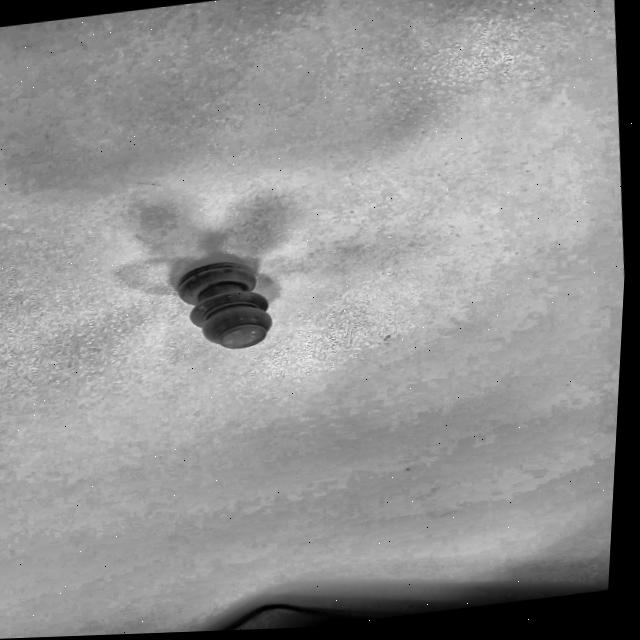white-bishop: (176, 262, 271, 348)
